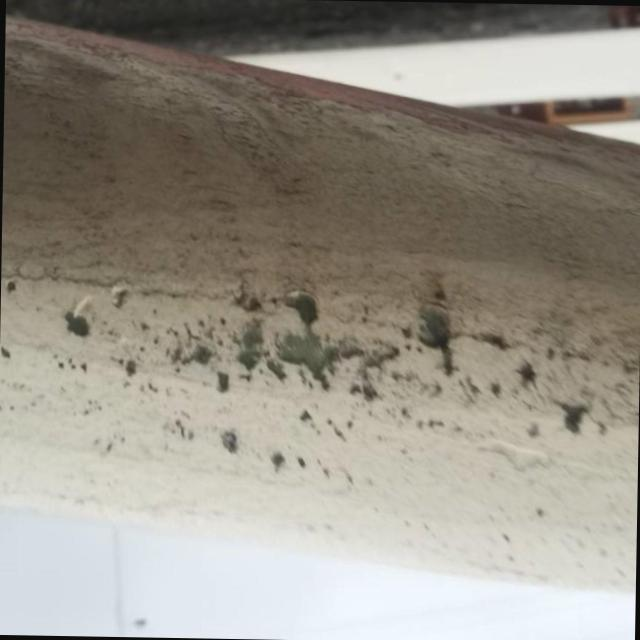corrosion: (3, 70, 630, 507)
